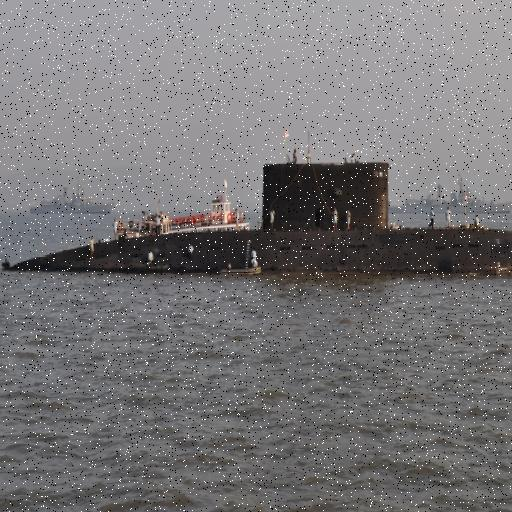submarine: (1, 162, 512, 274)
